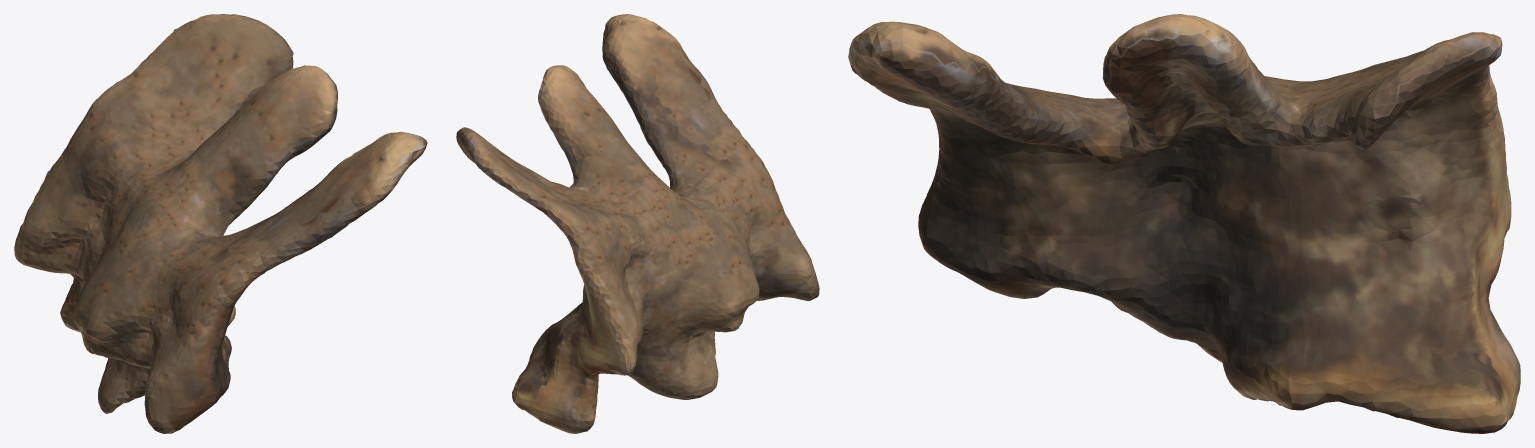
File: MB Sus 5 dp4.obj
The picture shows the model from 3 angles, left to right: view 1: azimuth 30°, elevation 25°; view 2: azimuth 150°, elevation 25°; view 3: azimuth 270°, elevation 25°; orthographic projection. The views are drawn at different scales.
Size of the model in its own units: 12.47 by 13.53 by 16.68.
Materials: 1 (1 with a texture image).
